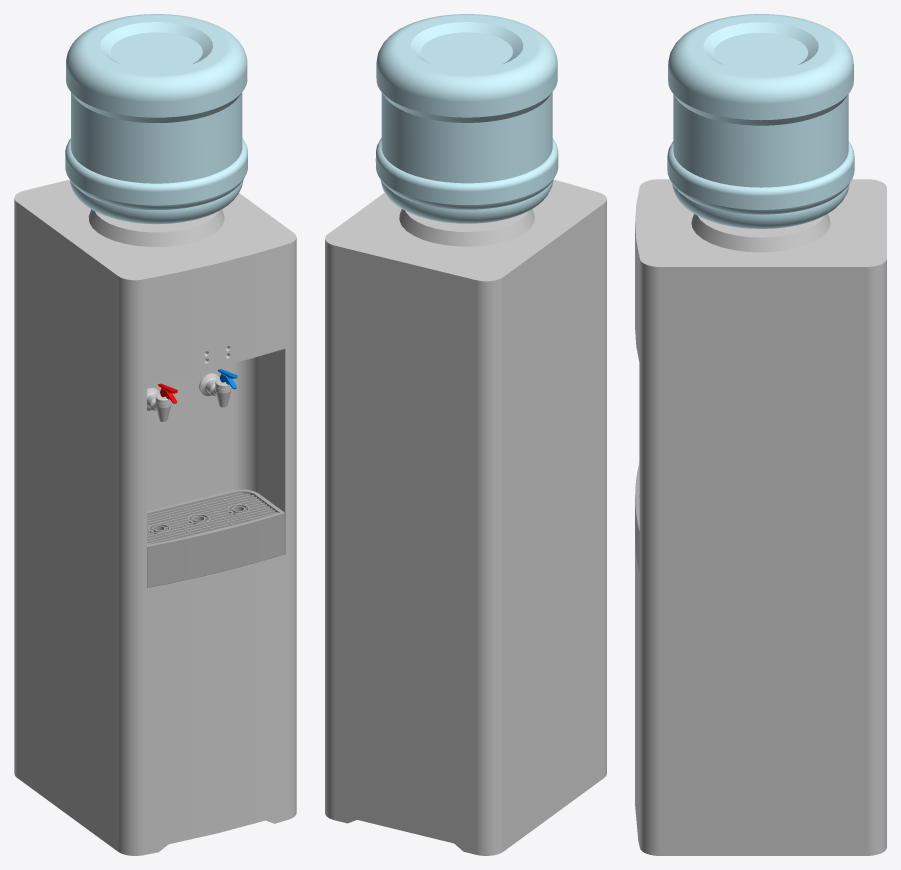
The model's file is 1086_ウォーターサーバー.glb.
The picture shows the model from 3 angles, left to right: view 1: azimuth 30°, elevation 25°; view 2: azimuth 150°, elevation 25°; view 3: azimuth 270°, elevation 25°; orthographic projection. The views are drawn at different scales.
Parts seen in each view (by area): view 1: Body, water, tray; view 2: Body, water; view 3: Body, water.
Boxes of the visible parts, <box> form: Body: <box>14,179,296,855</box>; water: <box>65,14,247,224</box>; tray: <box>147,489,284,588</box>; Body: <box>325,179,606,855</box>; water: <box>375,14,558,223</box>; Body: <box>635,179,886,855</box>; water: <box>667,14,854,228</box>.
Bounding box in the file's own units: 0.3083 × 1.25 × 0.3734.
